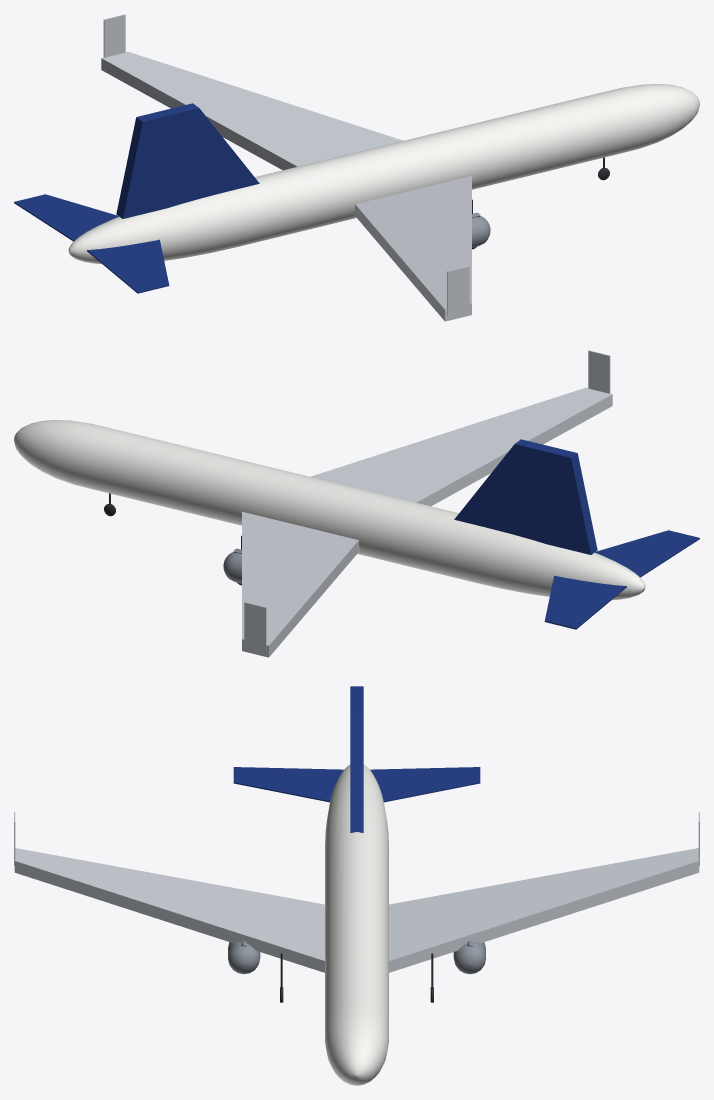
3 renders of one model, top to bottom at view 1: azimuth 30°, elevation 25°; view 2: azimuth 150°, elevation 25°; view 3: azimuth 270°, elevation 25°, orthographic.
Parts seen in each view (by area): view 1: fuselage, wings, tail, engines; view 2: fuselage, wings, tail, engines; view 3: wings, fuselage, tail, engines.
Part boxes in pixels (x1,y1,x2,y2): fuselage: [68, 84, 699, 264]; wings: [101, 14, 471, 321]; tail: [14, 103, 259, 293]; engines: [472, 212, 490, 247]; fuselage: [14, 420, 645, 600]; wings: [242, 350, 612, 657]; tail: [454, 439, 699, 629]; engines: [223, 548, 241, 583]; wings: [14, 811, 699, 972]; fuselage: [325, 764, 388, 1085]; tail: [233, 686, 480, 832]; engines: [228, 940, 485, 974].
Bounding box in the file's own units: 63.7 × 16.79 × 60.42.
